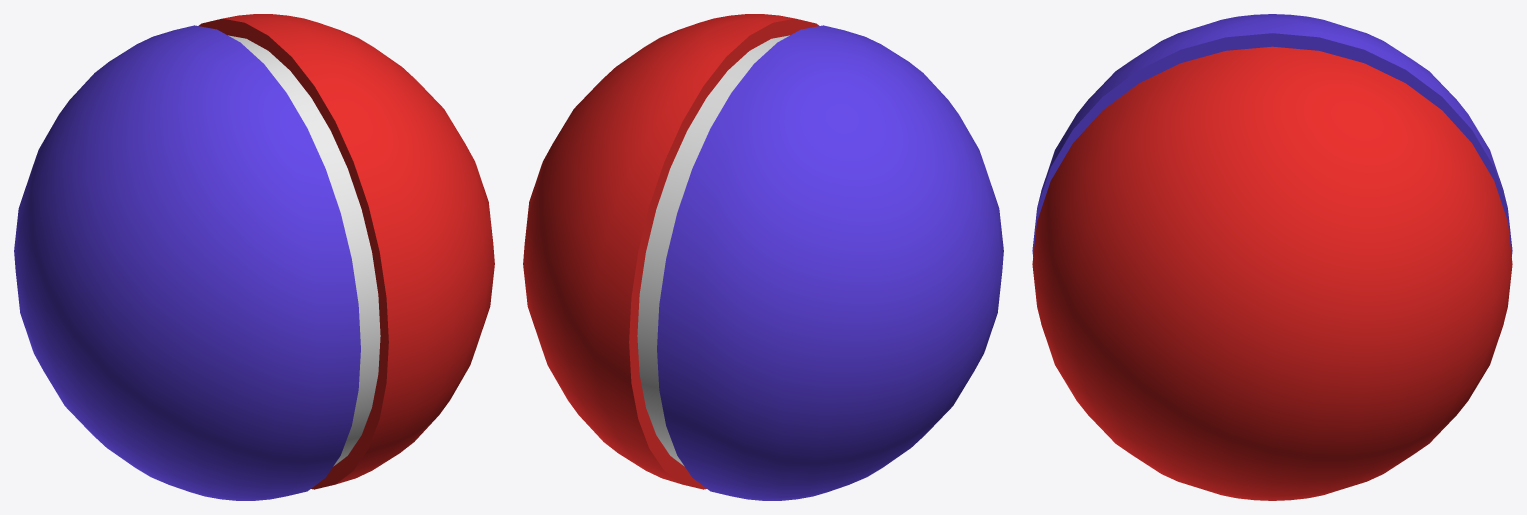
Rendered from ball.fbx.
The picture shows the model from 3 angles, left to right: view 1: azimuth 30°, elevation 25°; view 2: azimuth 150°, elevation 25°; view 3: azimuth 270°, elevation 25°; orthographic projection.
Parts seen in each view (by area): view 1: Sphere; view 2: Sphere; view 3: Sphere.
Boxes of the visible parts, left/top/right/bottom form: Sphere: left=14, top=14, right=494, bottom=500; Sphere: left=523, top=14, right=1003, bottom=500; Sphere: left=1032, top=14, right=1512, bottom=500.
Bounding box in the file's own units: 2 × 2 × 2.
